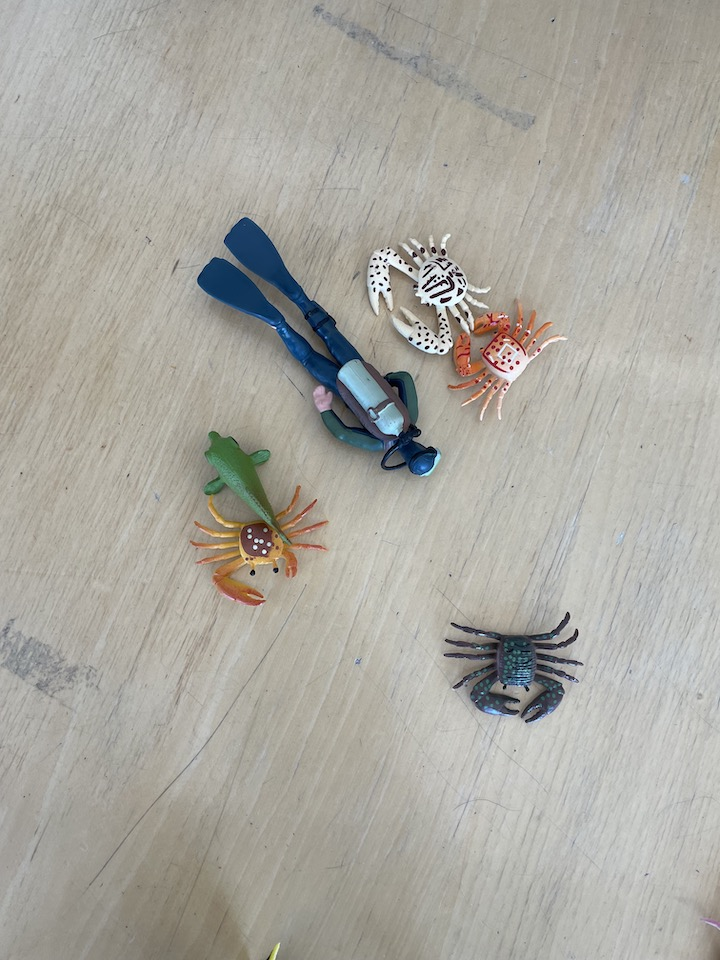crab: (181, 486, 329, 608), (435, 295, 566, 427), (364, 232, 492, 367), (442, 612, 586, 726)
diver: (195, 214, 448, 482)
fish: (196, 424, 298, 546)
